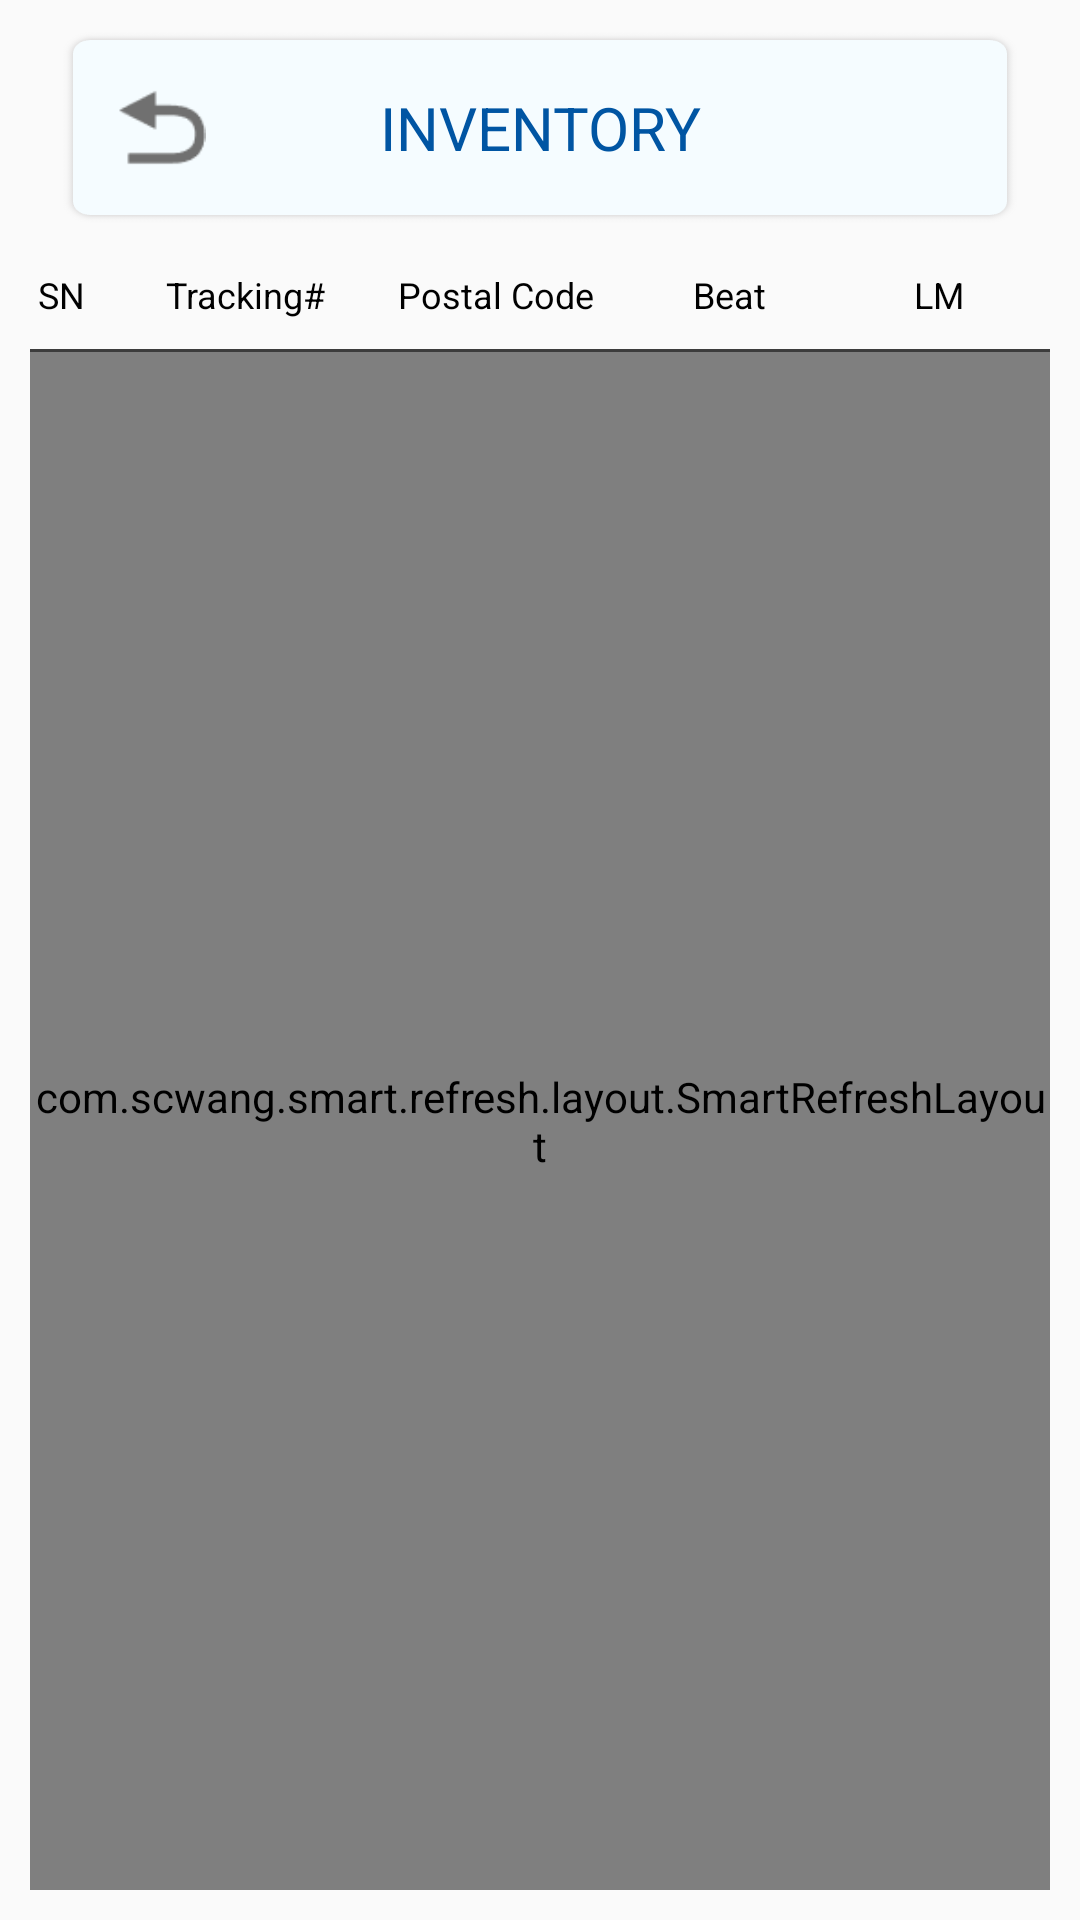

Named icons in this screenshot (1080×1920) and their centers, (x,y):
back: (162,127)
